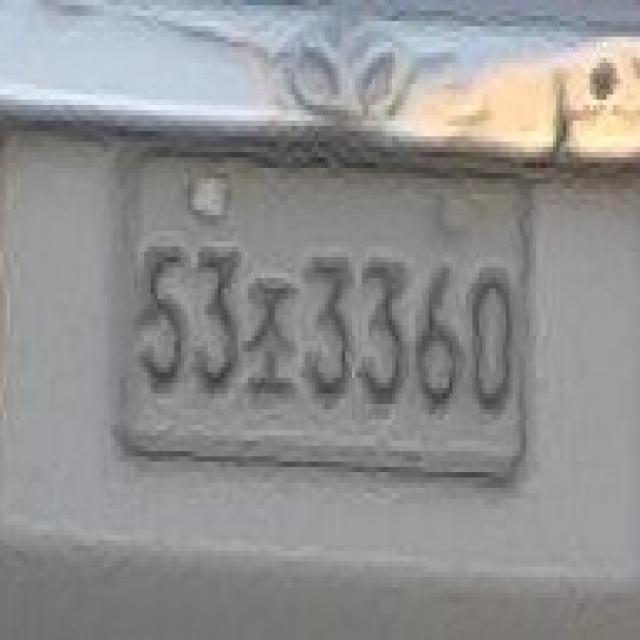0: (466, 246, 516, 425)
3: (302, 231, 358, 430), (362, 242, 412, 414), (191, 241, 241, 409)
5: (138, 236, 195, 394)
6: (409, 241, 459, 425)
jo: (245, 262, 298, 399)
license_plate: (107, 147, 533, 488)
